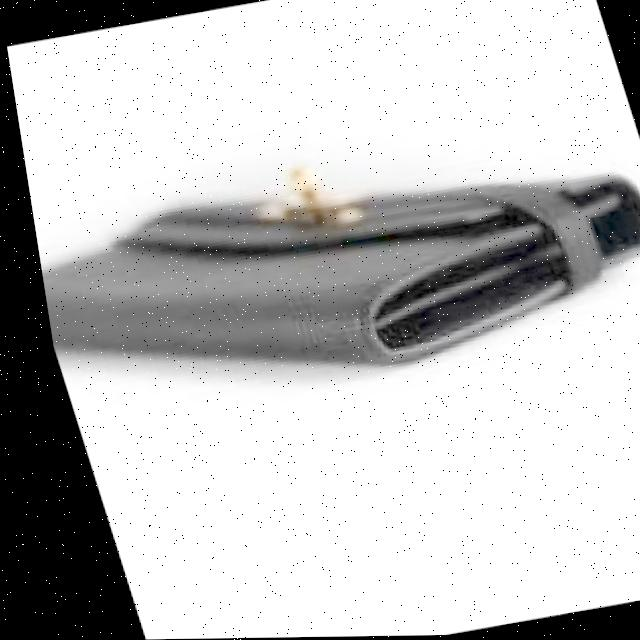cuzdan: (15, 119, 640, 457)
